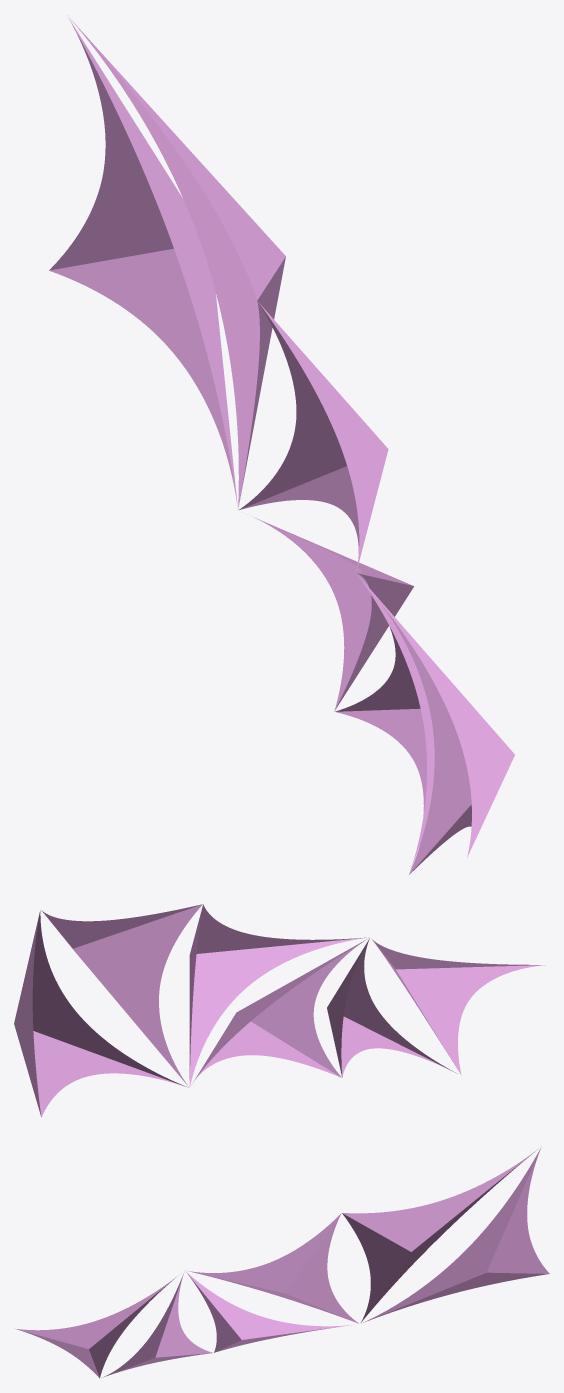
File: TYPE46-4.glb
3 renders of one model, top to bottom at view 1: azimuth 30°, elevation 25°; view 2: azimuth 150°, elevation 25°; view 3: azimuth 270°, elevation 25°, orthographic. The views are drawn at different scales.
Visible parts, largest first — view 1: TYPE46-4 (×16); view 2: TYPE46-4 (×16); view 3: TYPE46-4 (×17).
Boxes of the visible parts, left/top/right/bottom form: TYPE46-4 (×16): left=49, top=17, right=514, bottom=874; TYPE46-4 (×16): left=14, top=904, right=545, bottom=1117; TYPE46-4 (×17): left=15, top=1148, right=549, bottom=1378.
Bounding box in the file's own units: 3.44 × 7.79 × 14.73.
